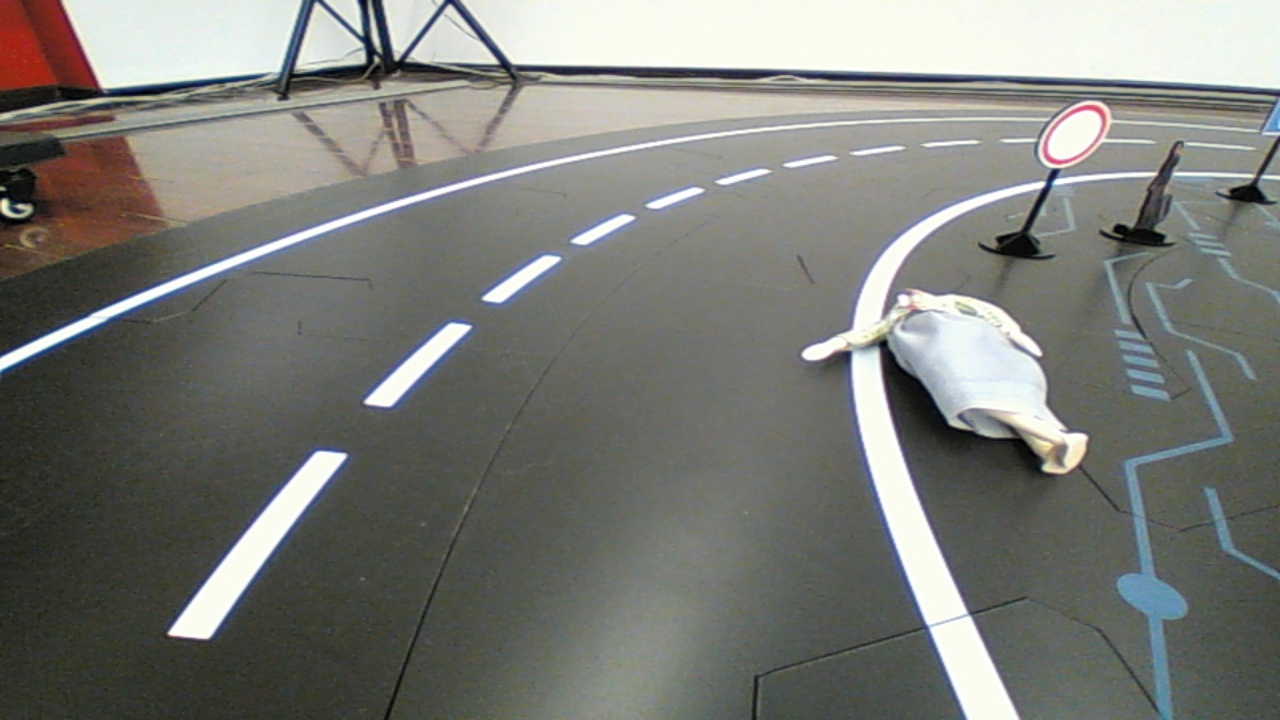Road works: (791, 279, 1106, 484)
